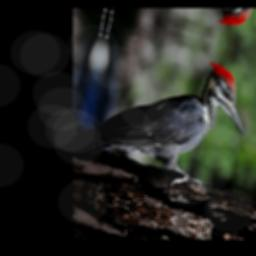Woodpecker: (80, 27, 256, 205)
